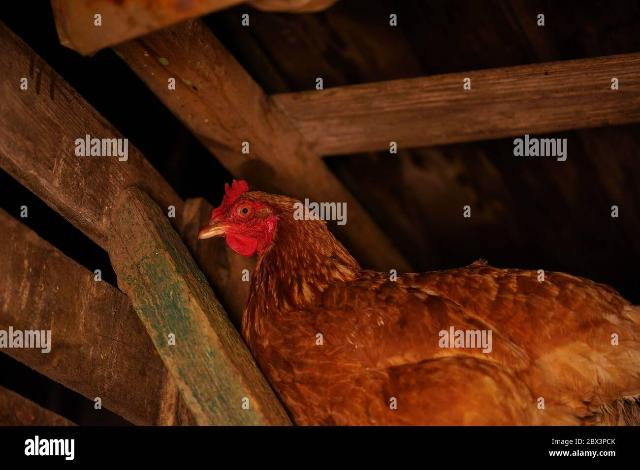Chicken: (198, 177, 639, 425)
